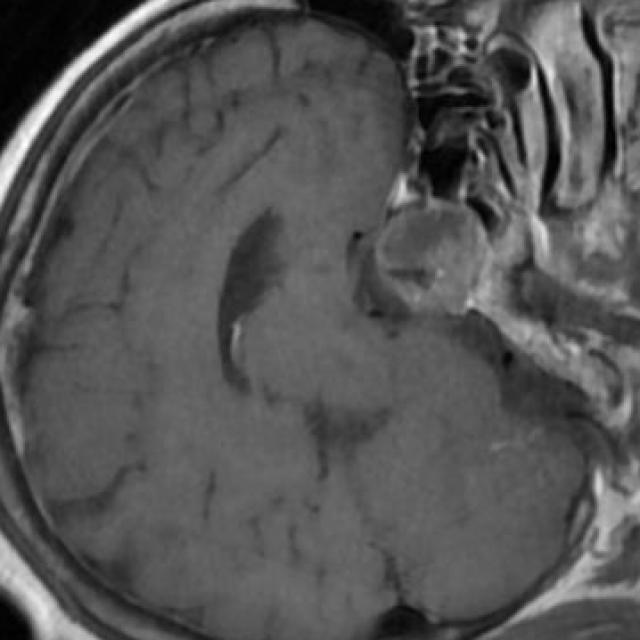pituitary: (374, 209, 488, 316)
